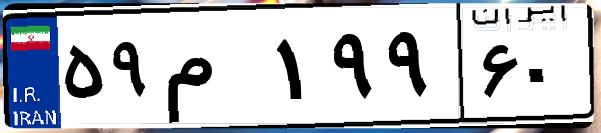0: (525, 38, 570, 115)
1: (270, 28, 330, 110)
5: (57, 26, 110, 100)
6: (475, 38, 525, 113)
9: (385, 28, 445, 110), (330, 28, 385, 110), (110, 28, 158, 98)
م: (158, 20, 270, 120)
